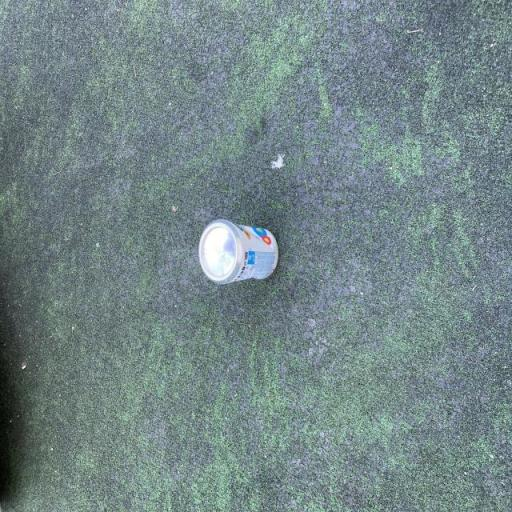metal: (170, 185, 282, 305)
